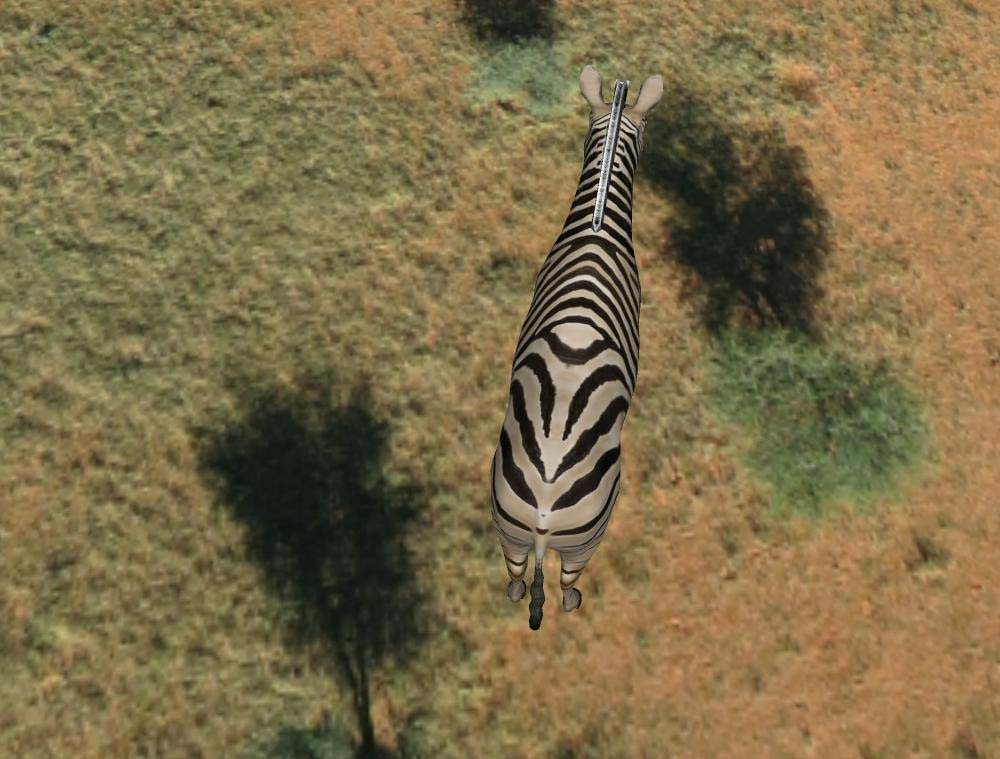zebra: (490, 59, 666, 634)
